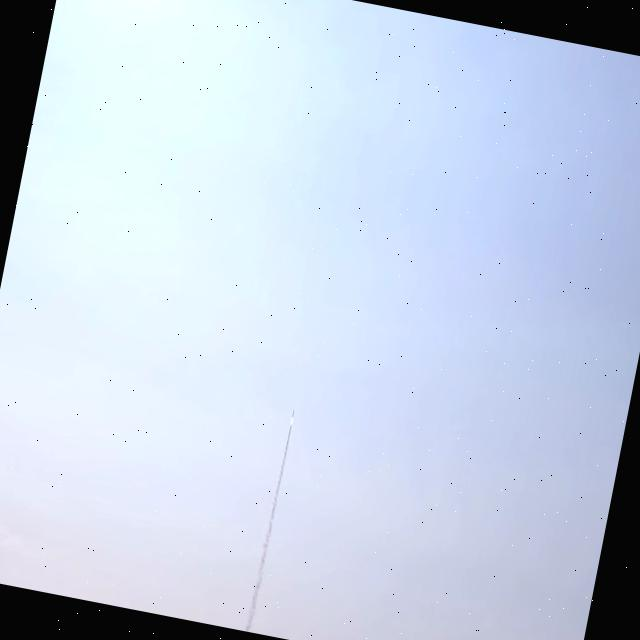smoke_trail_with_rocket: (257, 411, 294, 571)
